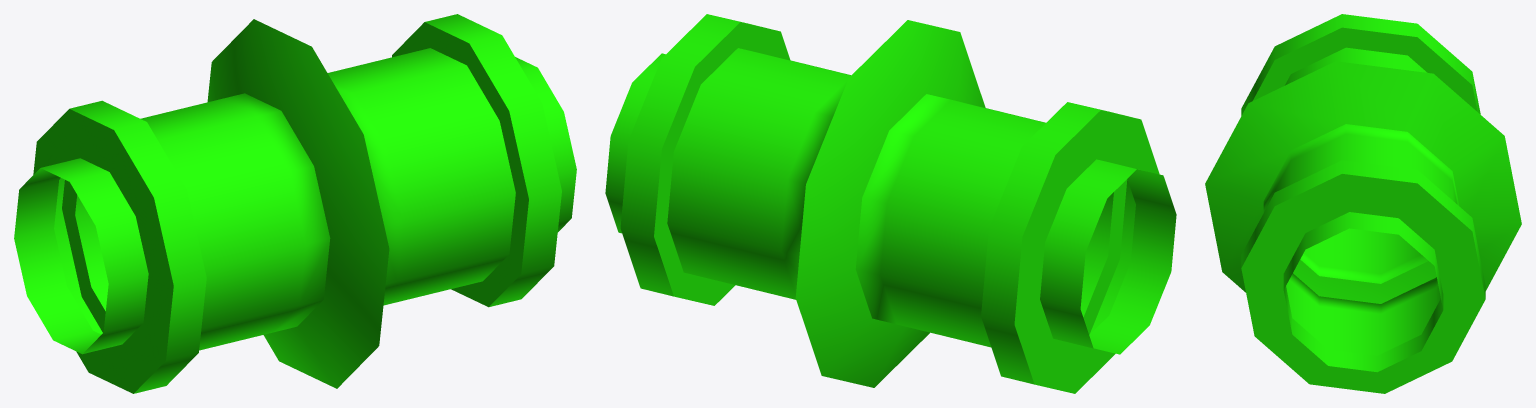
File: SawSupport.FBX
The picture shows the model from 3 angles, left to right: view 1: azimuth 30°, elevation 25°; view 2: azimuth 150°, elevation 25°; view 3: azimuth 270°, elevation 25°; orthographic projection. The views are drawn at different scales.
Parts seen in each view (by area): view 1: CentroBordesSierra003; view 2: CentroBordesSierra003; view 3: CentroBordesSierra003.
Part boxes in pixels (x1=…): CentroBordesSierra003: x1=14, y1=14, x2=576, y2=393; CentroBordesSierra003: x1=605, y1=14, x2=1176, y2=393; CentroBordesSierra003: x1=1205, y1=14, x2=1521, y2=393.
Bounding box in the file's own units: 2.57 × 1.78 × 1.79.
